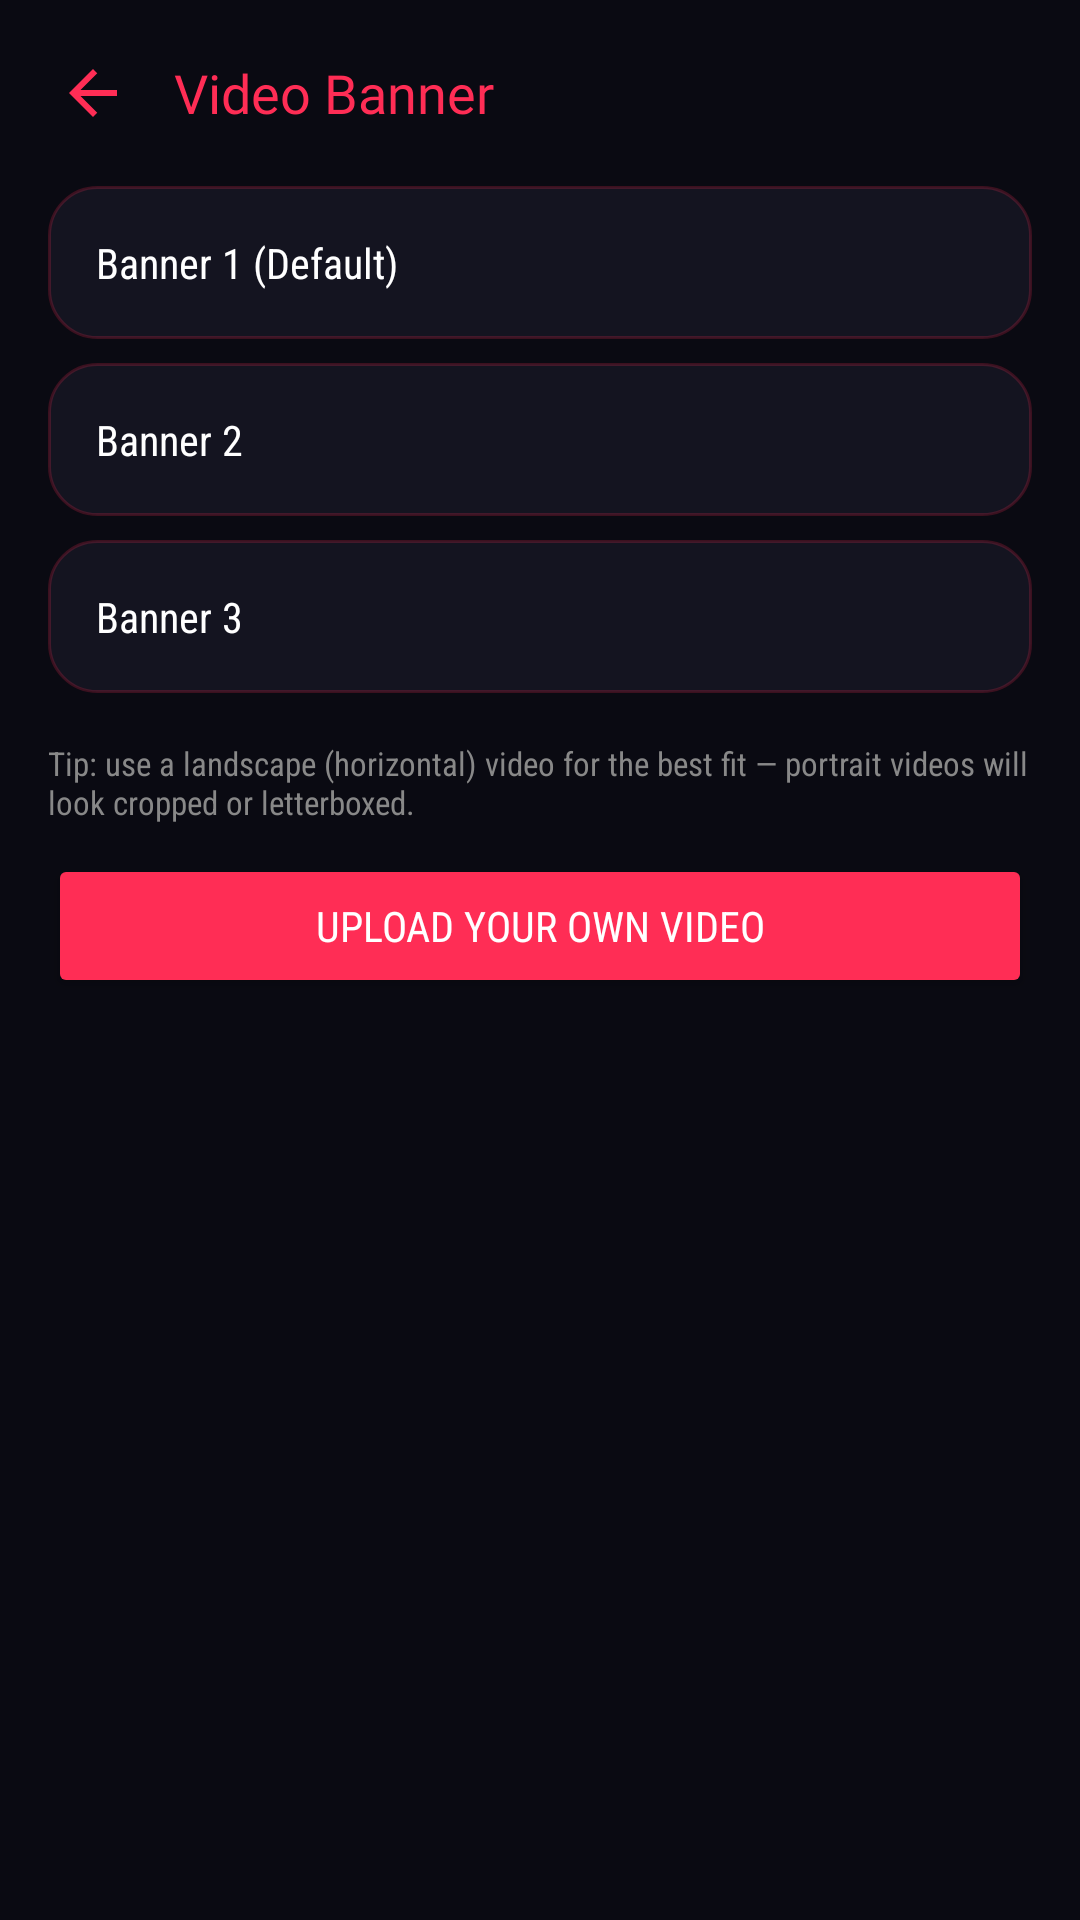

Point at icon controls on the screen. Image size 1080px×1920px, points as (x,y).
Back: (93,93)
